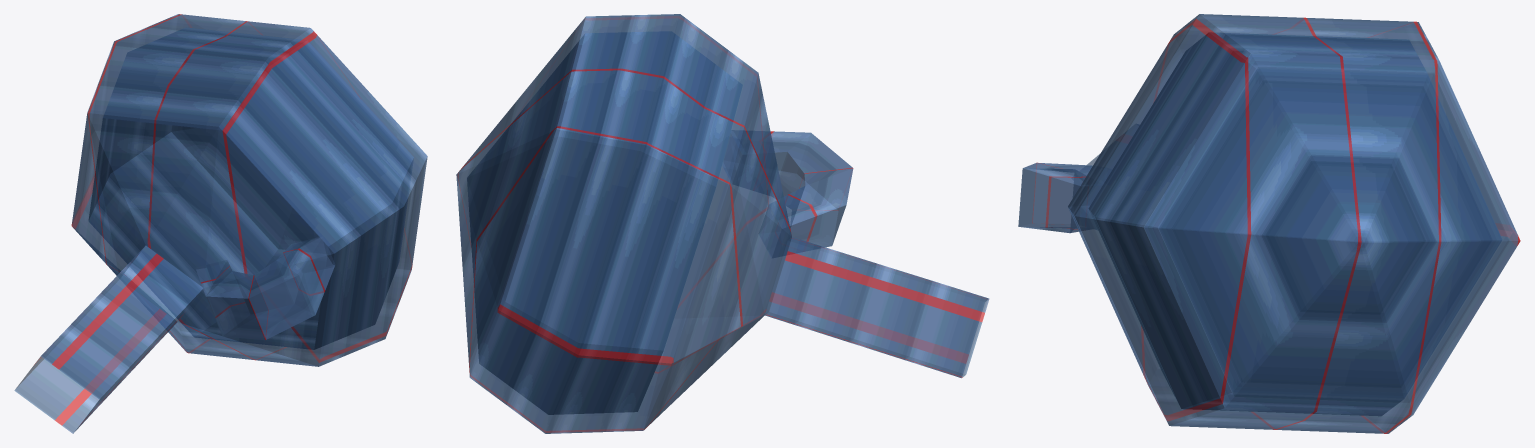
File: 2786item2786.gltf
3 views of the same model, side by side, from view 1: azimuth 30°, elevation 25°; view 2: azimuth 150°, elevation 25°; view 3: azimuth 270°, elevation 25° (orthographic). The views are drawn at different scales.
Parts seen in each view (by area): view 1: 2786item2786; view 2: 2786item2786; view 3: 2786item2786.
Part boxes in pixels (x1,y1,x2,y2): 2786item2786: (14,14,427,433); 2786item2786: (456,14,989,433); 2786item2786: (1018,14,1520,433).
Size of the model in its own units: 0.3313 by 0.2574 by 0.2964.
Materials: 2 (2 with a texture image).
